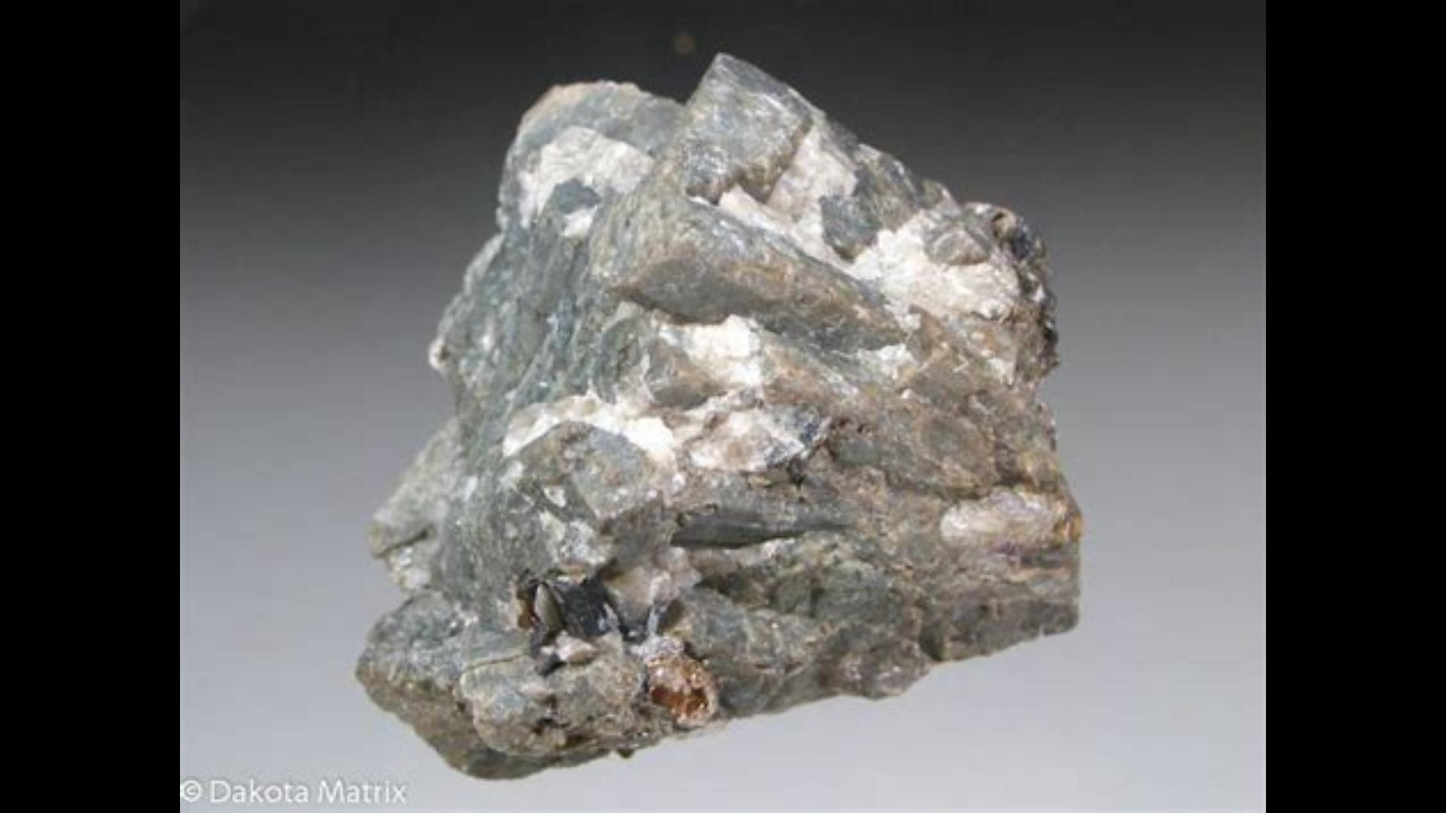rock: (368, 57, 1078, 767)
